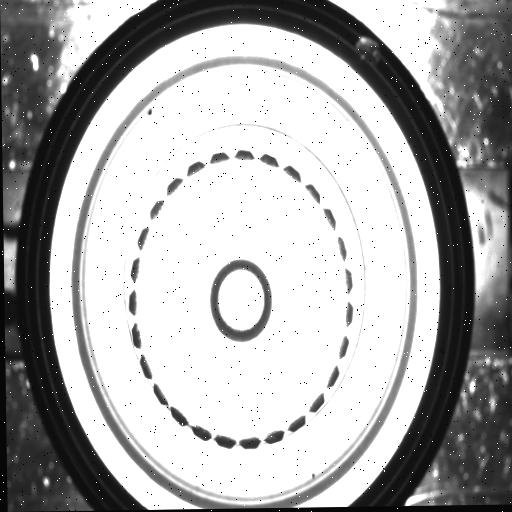gear: (123, 142, 363, 455)
